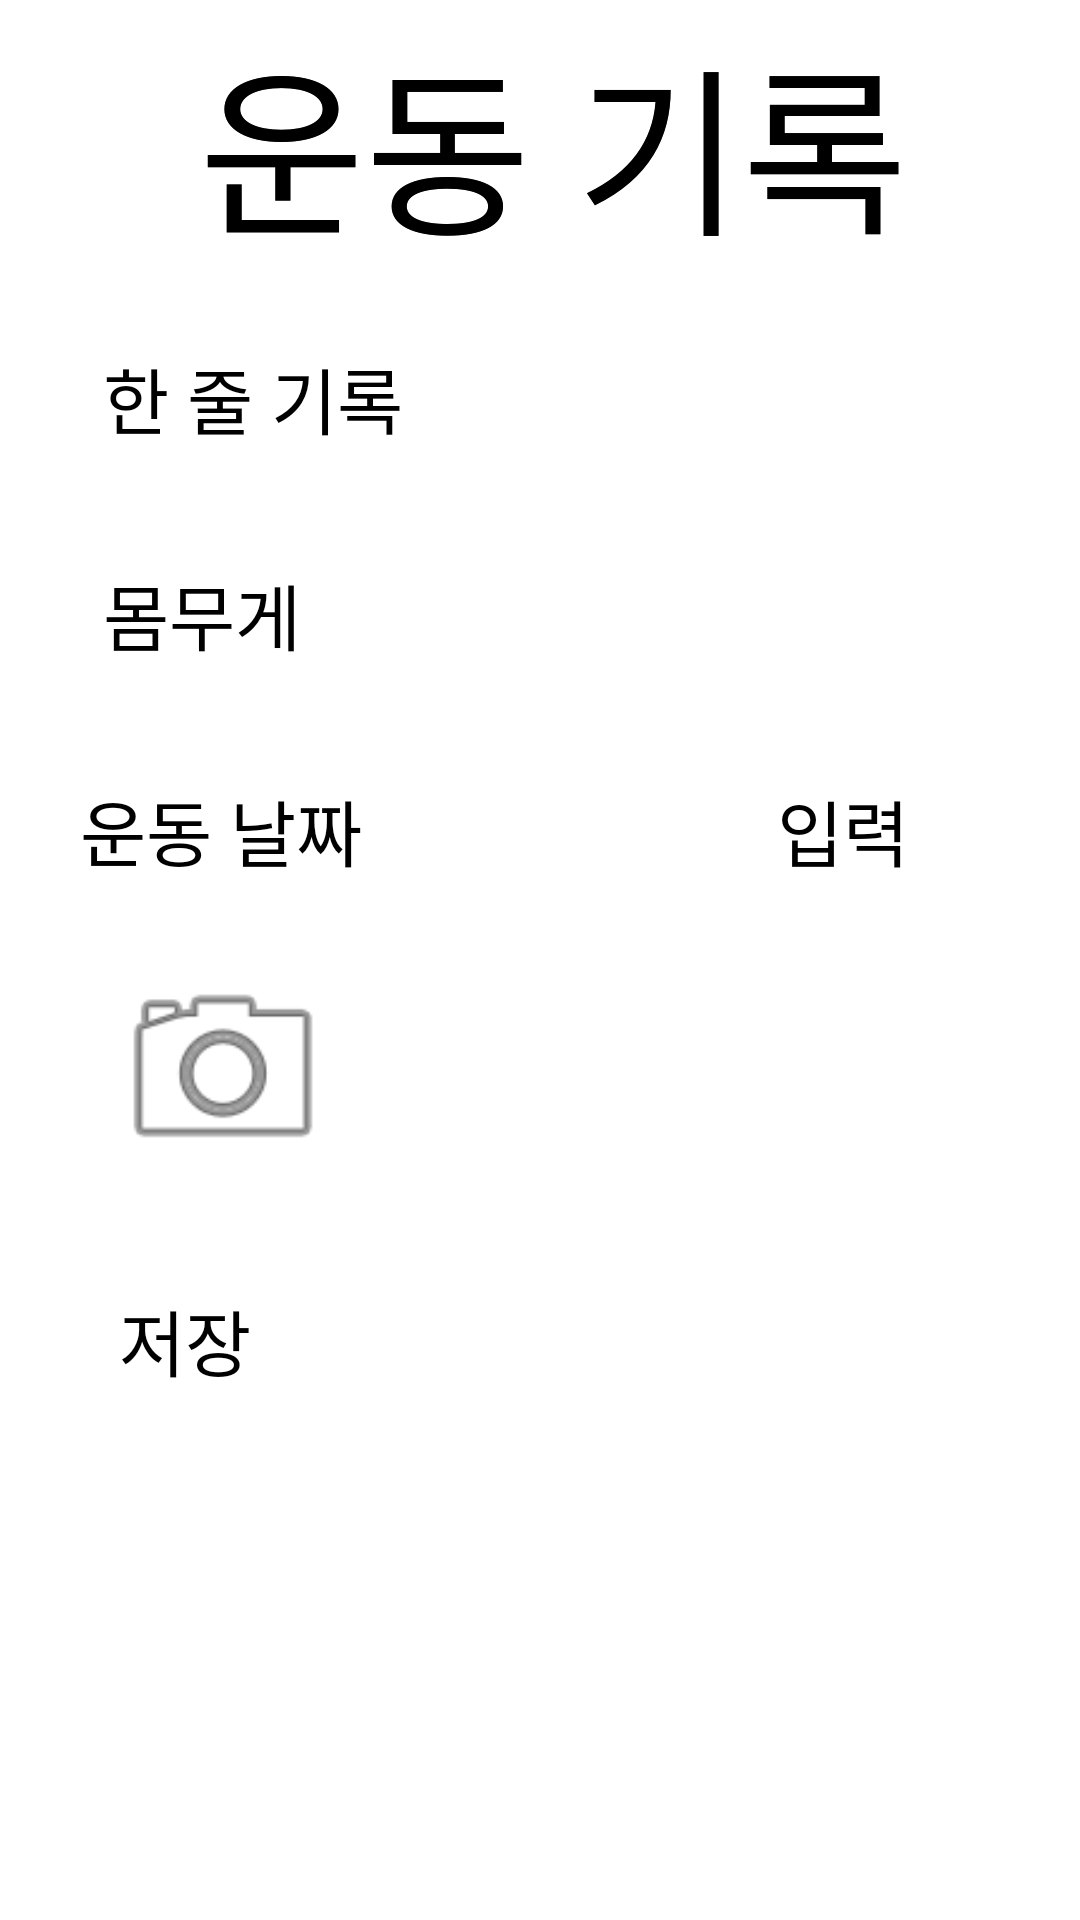

Where icons sit on this 1080px x 1920px app screen, as (x1, y1, x2, y2):
Take a photo: (134, 995, 312, 1137)
